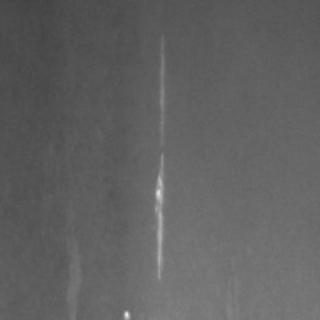scratches: (146, 36, 168, 280)
